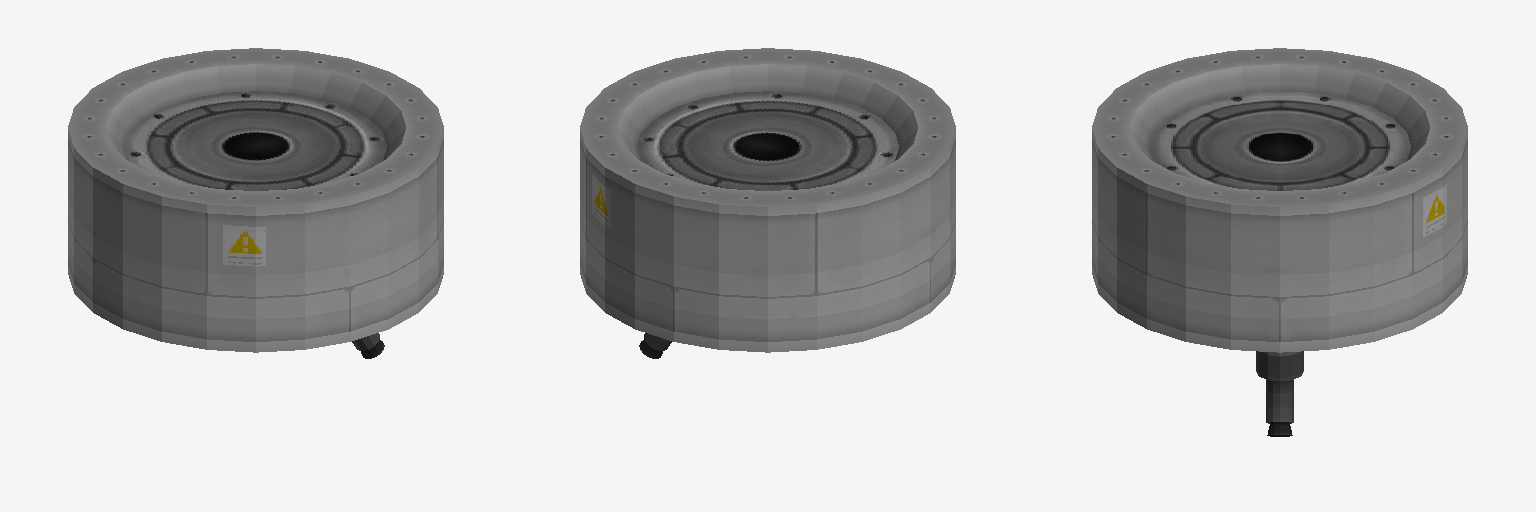
3 renders of one model, left to right at view 1: azimuth 30°, elevation 25°; view 2: azimuth 150°, elevation 25°; view 3: azimuth 270°, elevation 25°, orthographic.
Parts seen in each view (by area): view 1: Knight_Motor_A; view 2: Knight_Motor_A; view 3: Knight_Motor_A.
Part boxes in pixels (bbox=[...]): Knight_Motor_A: bbox=[68, 48, 443, 358]; Knight_Motor_A: bbox=[580, 48, 955, 358]; Knight_Motor_A: bbox=[1092, 48, 1467, 436].
Bounding box in the file's own units: 0.9375 × 0.7057 × 0.9375.
1 materials, 1 textured.